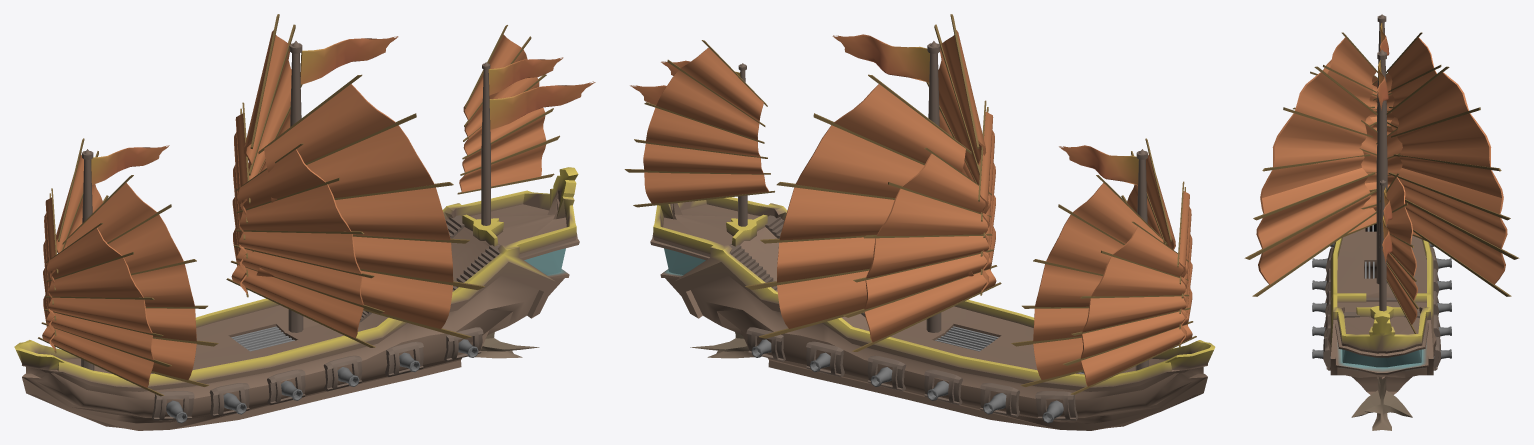
The model's file is tasarim2.glb.
3 views of the same model, side by side, from view 1: azimuth 30°, elevation 25°; view 2: azimuth 150°, elevation 25°; view 3: azimuth 270°, elevation 25° (orthographic). The views are drawn at different scales.
Parts seen in each view (by area): view 1: Object_6, Object_3, Object_4, Object_5; view 2: Object_6, Object_3, Object_4, Object_5; view 3: Object_6, Object_3, Object_4, Object_5.
Part boxes in pixels (bbox=[...]): Object_6: bbox=[38, 15, 559, 396]; Object_3: bbox=[16, 36, 595, 429]; Object_4: bbox=[14, 46, 579, 430]; Object_5: bbox=[22, 14, 538, 430]; Object_6: bbox=[624, 15, 1196, 394]; Object_3: bbox=[630, 34, 1213, 429]; Object_4: bbox=[650, 45, 1215, 430]; Object_5: bbox=[644, 14, 1207, 430]; Object_6: bbox=[1244, 32, 1519, 333]; Object_3: bbox=[1323, 14, 1440, 430]; Object_4: bbox=[1312, 18, 1451, 379]; Object_5: bbox=[1246, 22, 1517, 417].
Size of the model in its own units: 3.11 by 1.87 by 1.58.
